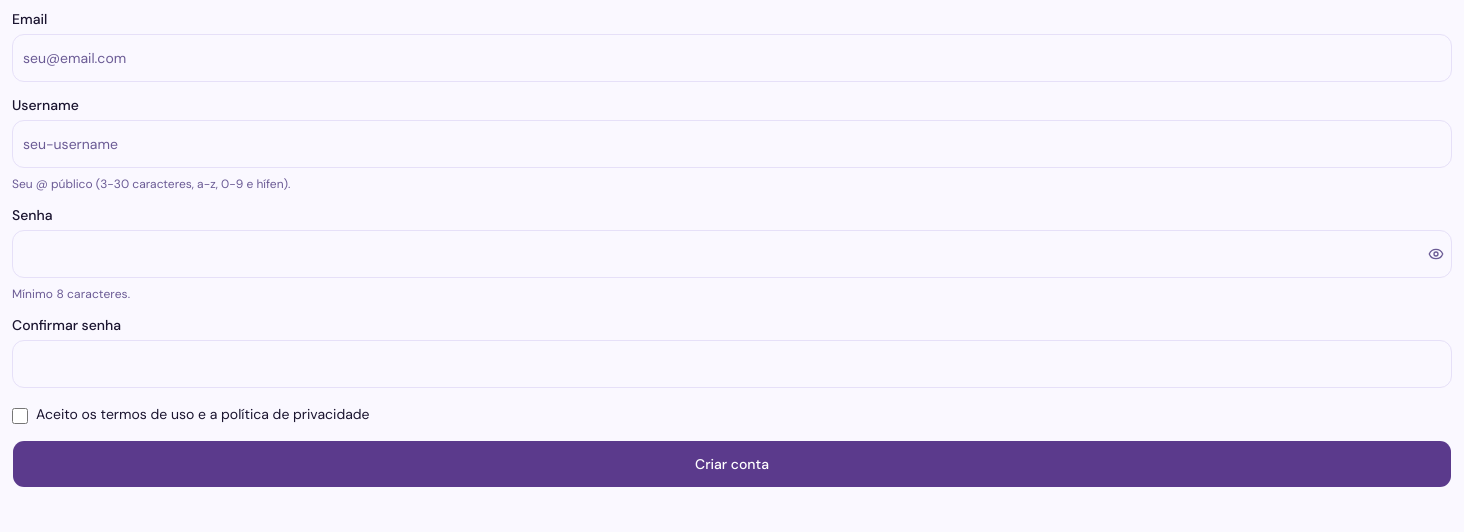
Test: <SignupForm> — validação live de username (AC1) › mostra "Verificando disponibilidade..." enquanto aguarda e "Username disponível" no resultado
Type "livre-user" into the field labelled "Username" at (732, 144), box [12,120,1452,168]
Wait 300 ms
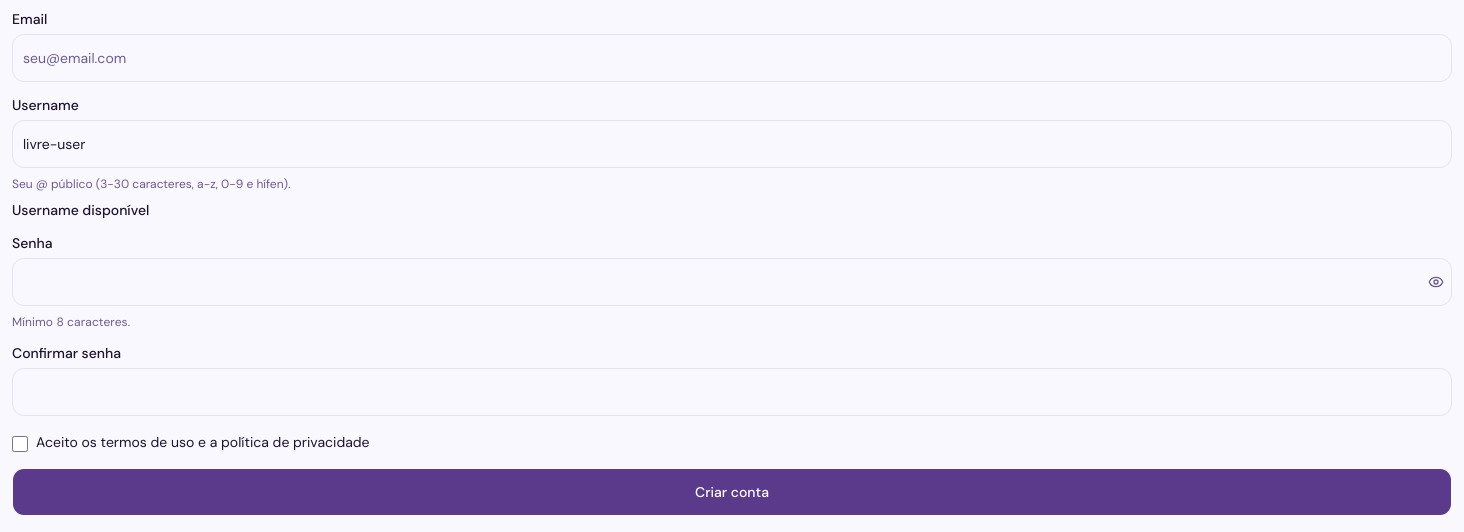
Result: the text "Username disponível" is shown at [12,201,149,219]
